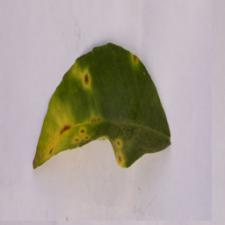Canker: (39, 50, 166, 164)
